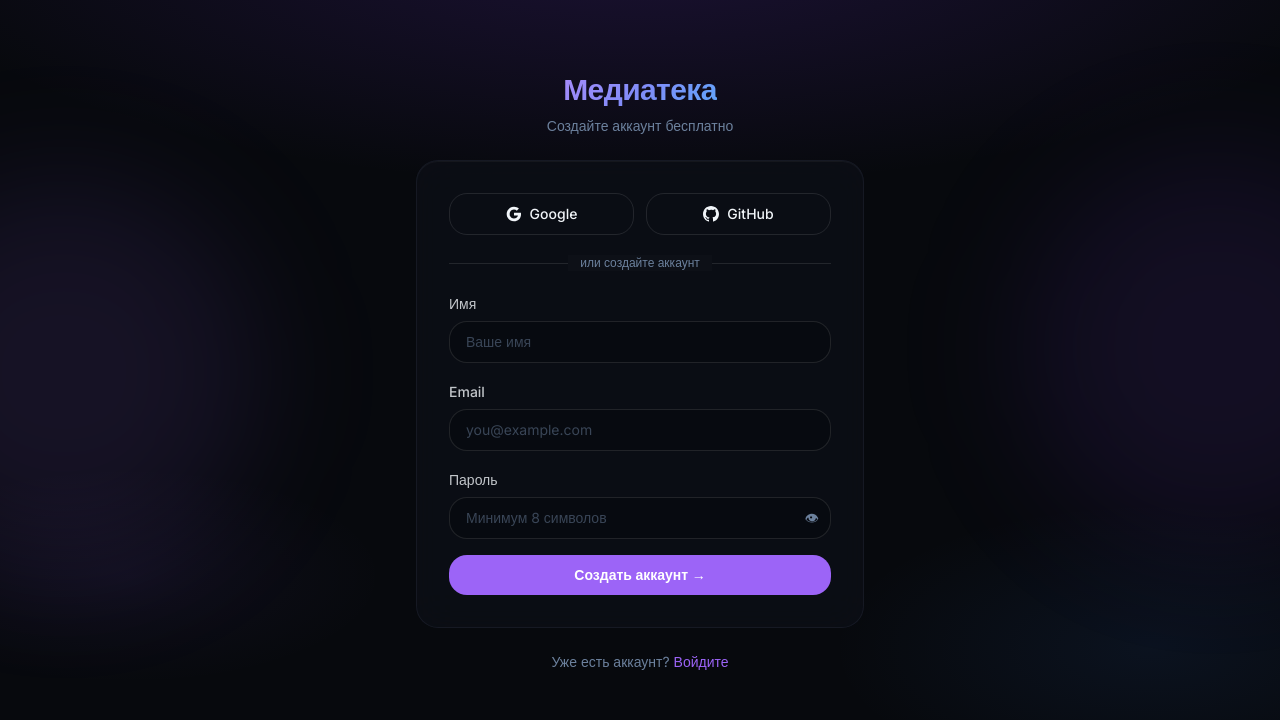
Test: RegisterPage › shows password strength as user types
This screenshot has width=1280, height=720.
Step 1. Type "StrongPass123!" into the password field with placeholder "Минимум 8 символов" → (640, 518), box [449,497,831,539]
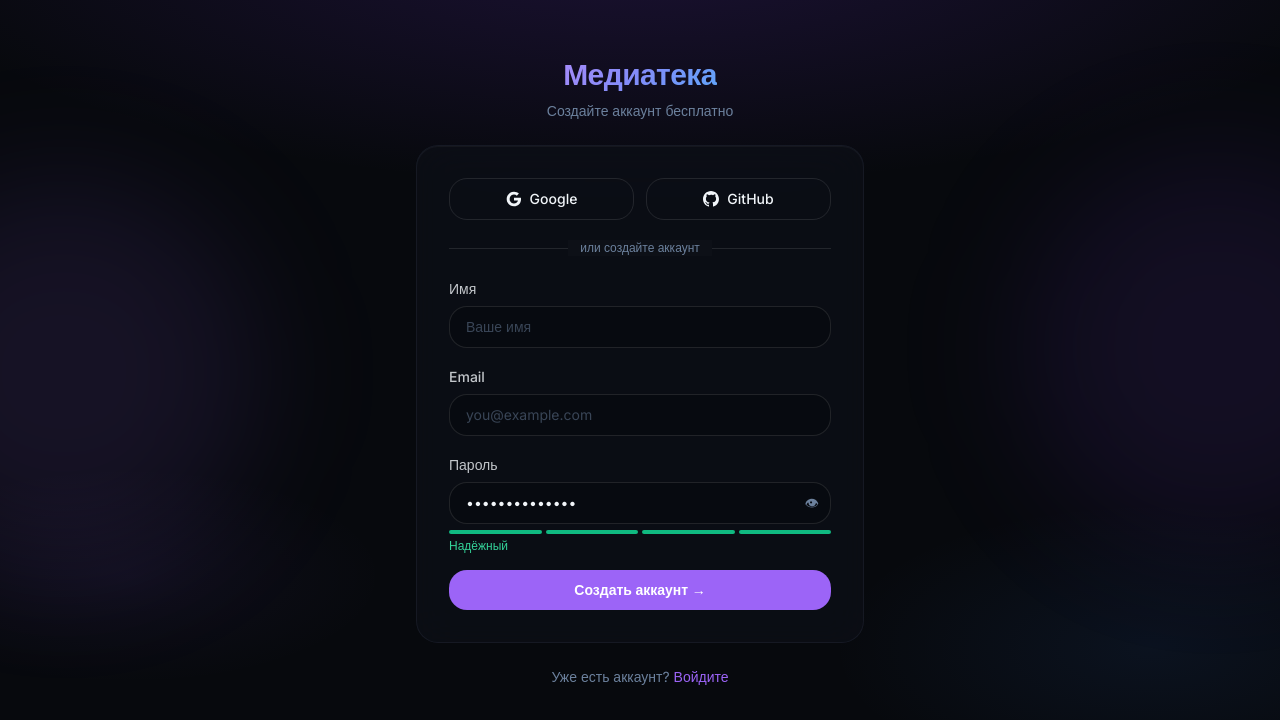
Expected: the text "Надёжный" is shown, [449,538,508,553]
